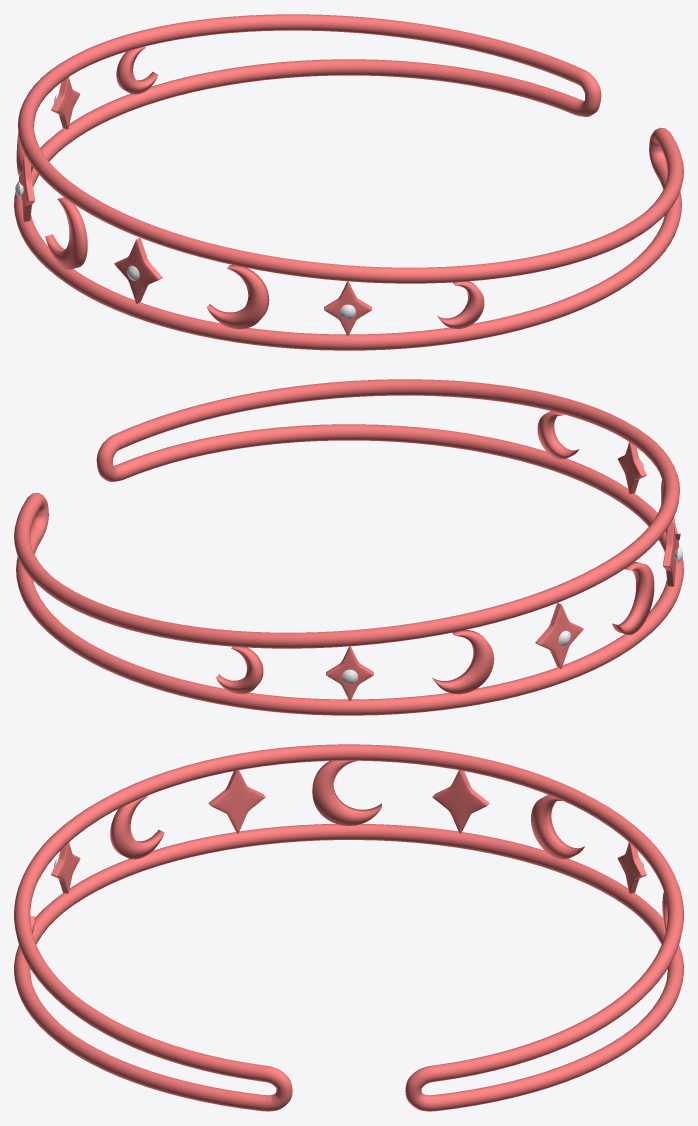
File: 5-pink.fbx
3 renders of one model, top to bottom at view 1: azimuth 30°, elevation 25°; view 2: azimuth 150°, elevation 25°; view 3: azimuth 270°, elevation 25°, orthographic.
Visible parts, largest first — view 1: Arc002, Circle010, Circle007, Star005, Circle009, Circle011, Star007, Star006, Star004; view 2: Arc002, Circle008, Circle007, Star004, Circle009, Star006, Circle011, Star007, Star005; view 3: Arc002, Circle007, Circle010, Star004, Star005, Circle008, Star006, Star007.
Part boxes in pixels (bbox=[...]): Arc002: bbox=[14, 14, 683, 350]; Circle010: bbox=[207, 265, 269, 329]; Circle007: bbox=[45, 197, 87, 269]; Star005: bbox=[114, 237, 162, 303]; Circle009: bbox=[116, 46, 158, 94]; Circle011: bbox=[437, 281, 484, 328]; Star007: bbox=[324, 281, 371, 336]; Star006: bbox=[51, 77, 80, 128]; Star004: bbox=[19, 157, 34, 221]; Arc002: bbox=[14, 379, 683, 715]; Circle008: bbox=[432, 630, 494, 694]; Circle007: bbox=[612, 561, 654, 634]; Star004: bbox=[535, 602, 583, 668]; Circle009: bbox=[216, 646, 263, 693]; Star006: bbox=[326, 646, 373, 701]; Circle011: bbox=[537, 411, 578, 459]; Star007: bbox=[617, 442, 646, 493]; Star005: bbox=[663, 522, 678, 586]; Arc002: bbox=[14, 744, 683, 1111]; Circle007: bbox=[312, 760, 381, 825]; Circle010: bbox=[110, 796, 164, 859]; Star004: bbox=[432, 770, 489, 833]; Star005: bbox=[208, 770, 265, 833]; Circle008: bbox=[531, 795, 584, 859]; Star006: bbox=[617, 842, 646, 893]; Star007: bbox=[51, 842, 80, 893].
Bounding box in the file's own units: 20.32 × 3.24 × 20.5.
